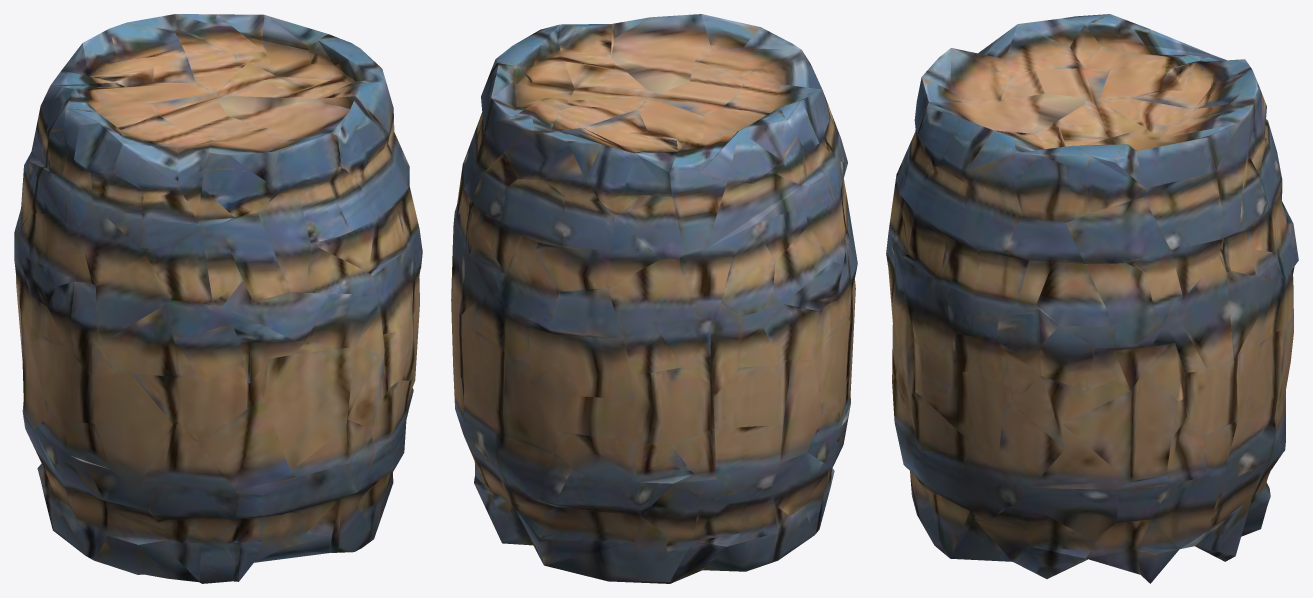
The picture shows the model from 3 angles, left to right: view 1: azimuth 30°, elevation 25°; view 2: azimuth 150°, elevation 25°; view 3: azimuth 270°, elevation 25°; orthographic projection.
Parts seen in each view (by area): view 1: Wooden_barrel; view 2: Wooden_barrel; view 3: Wooden_barrel.
Boxes of the visible parts, left/top/right/bottom form: Wooden_barrel: left=14, top=14, right=422, bottom=583; Wooden_barrel: left=451, top=14, right=857, bottom=583; Wooden_barrel: left=886, top=14, right=1298, bottom=583.
Bounding box in the file's own units: 1.71 × 2 × 1.71.
1 material, 1 textured.
